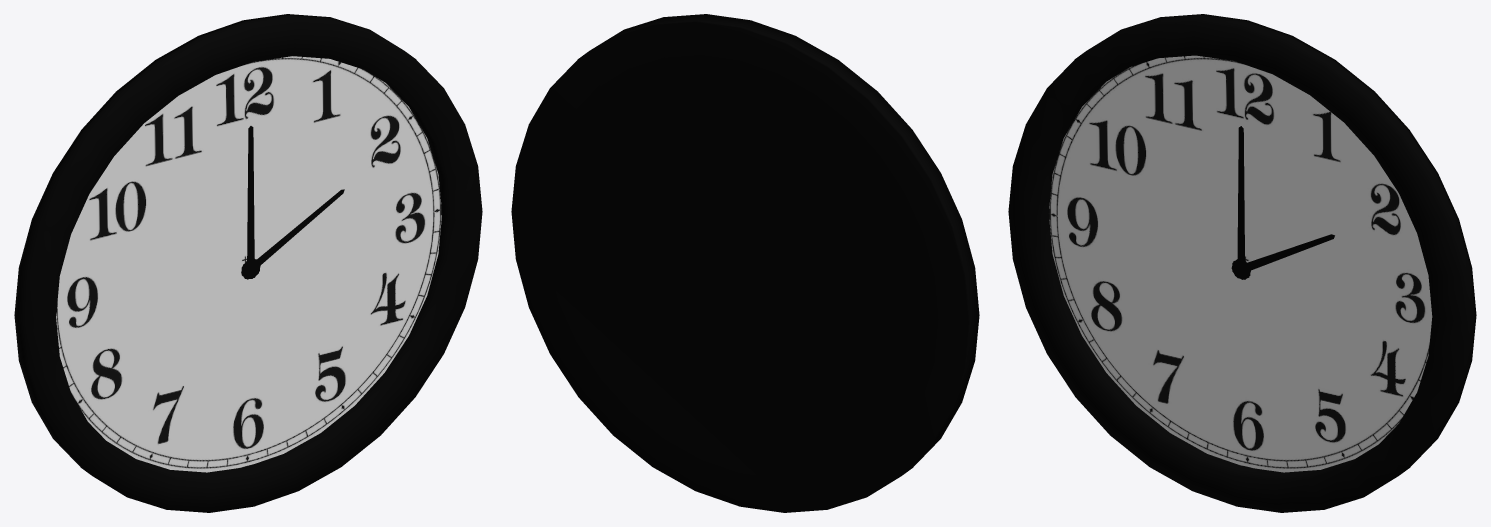
File: RelogioAnalogico.fbx
3 views of the same model, side by side, from view 1: azimuth 30°, elevation 25°; view 2: azimuth 150°, elevation 25°; view 3: azimuth 330°, elevation 25° (orthographic).
Visible parts, largest first — view 1: clock_face, clock_frame, clock_big_hand, clock_small_hand; view 2: clock_frame; view 3: clock_face, clock_frame, clock_big_hand, clock_small_hand.
Boxes of the visible parts, x1,y1,x2,y2 form: clock_face: (56, 56, 442, 472); clock_frame: (14, 14, 482, 512); clock_big_hand: (241, 126, 259, 279); clock_small_hand: (241, 189, 344, 278); clock_frame: (511, 14, 979, 512); clock_face: (1048, 55, 1432, 472); clock_frame: (1008, 14, 1476, 512); clock_big_hand: (1232, 126, 1250, 279); clock_small_hand: (1231, 234, 1334, 279).
Size of the model in its own units: 69.37 by 69.37 by 3.27.
